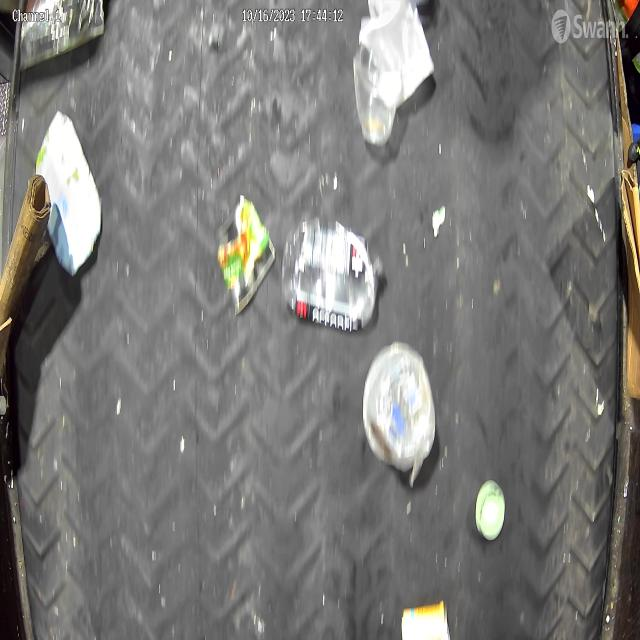can: (218, 192, 272, 318), (468, 476, 511, 542), (398, 588, 452, 640)
plastic_bottle: (282, 224, 386, 329)
